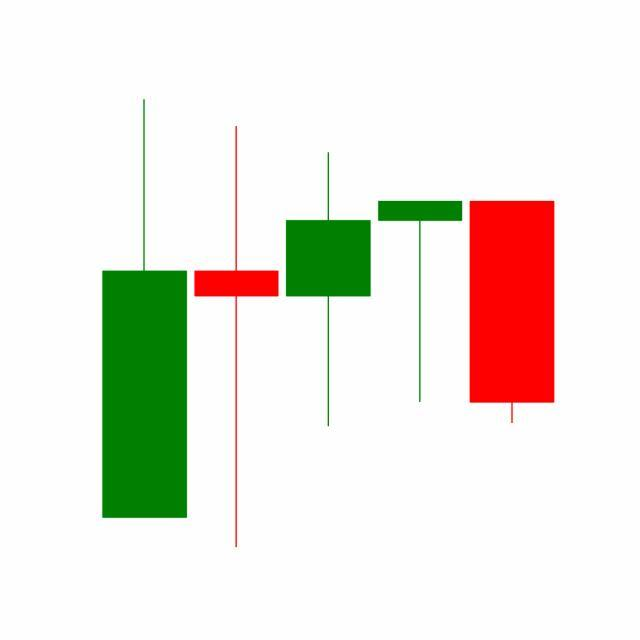Dragonfly Doji: (374, 200, 468, 406)
